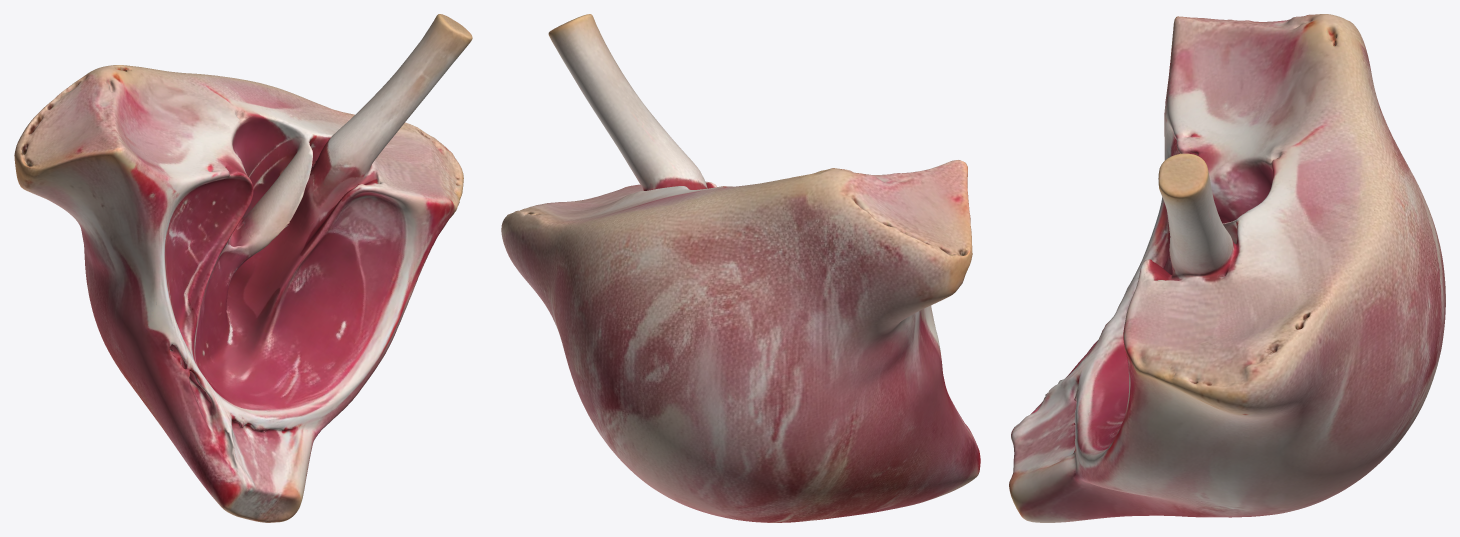
File: vet_v2_path_cruciate-tear.glb
3 views of the same model, side by side, from view 1: azimuth 30°, elevation 25°; view 2: azimuth 150°, elevation 25°; view 3: azimuth 270°, elevation 25° (orthographic). The views are drawn at different scales.
Parts seen in each view (by area): view 1: model; view 2: model; view 3: model.
Boxes of the visible parts, <box> form: model: <box>14,14,472,522</box>; model: <box>501,14,980,522</box>; model: <box>1009,14,1445,522</box>.
Bounding box in the file's own units: 1.9 × 1.76 × 1.39.
1 material, 1 textured.
